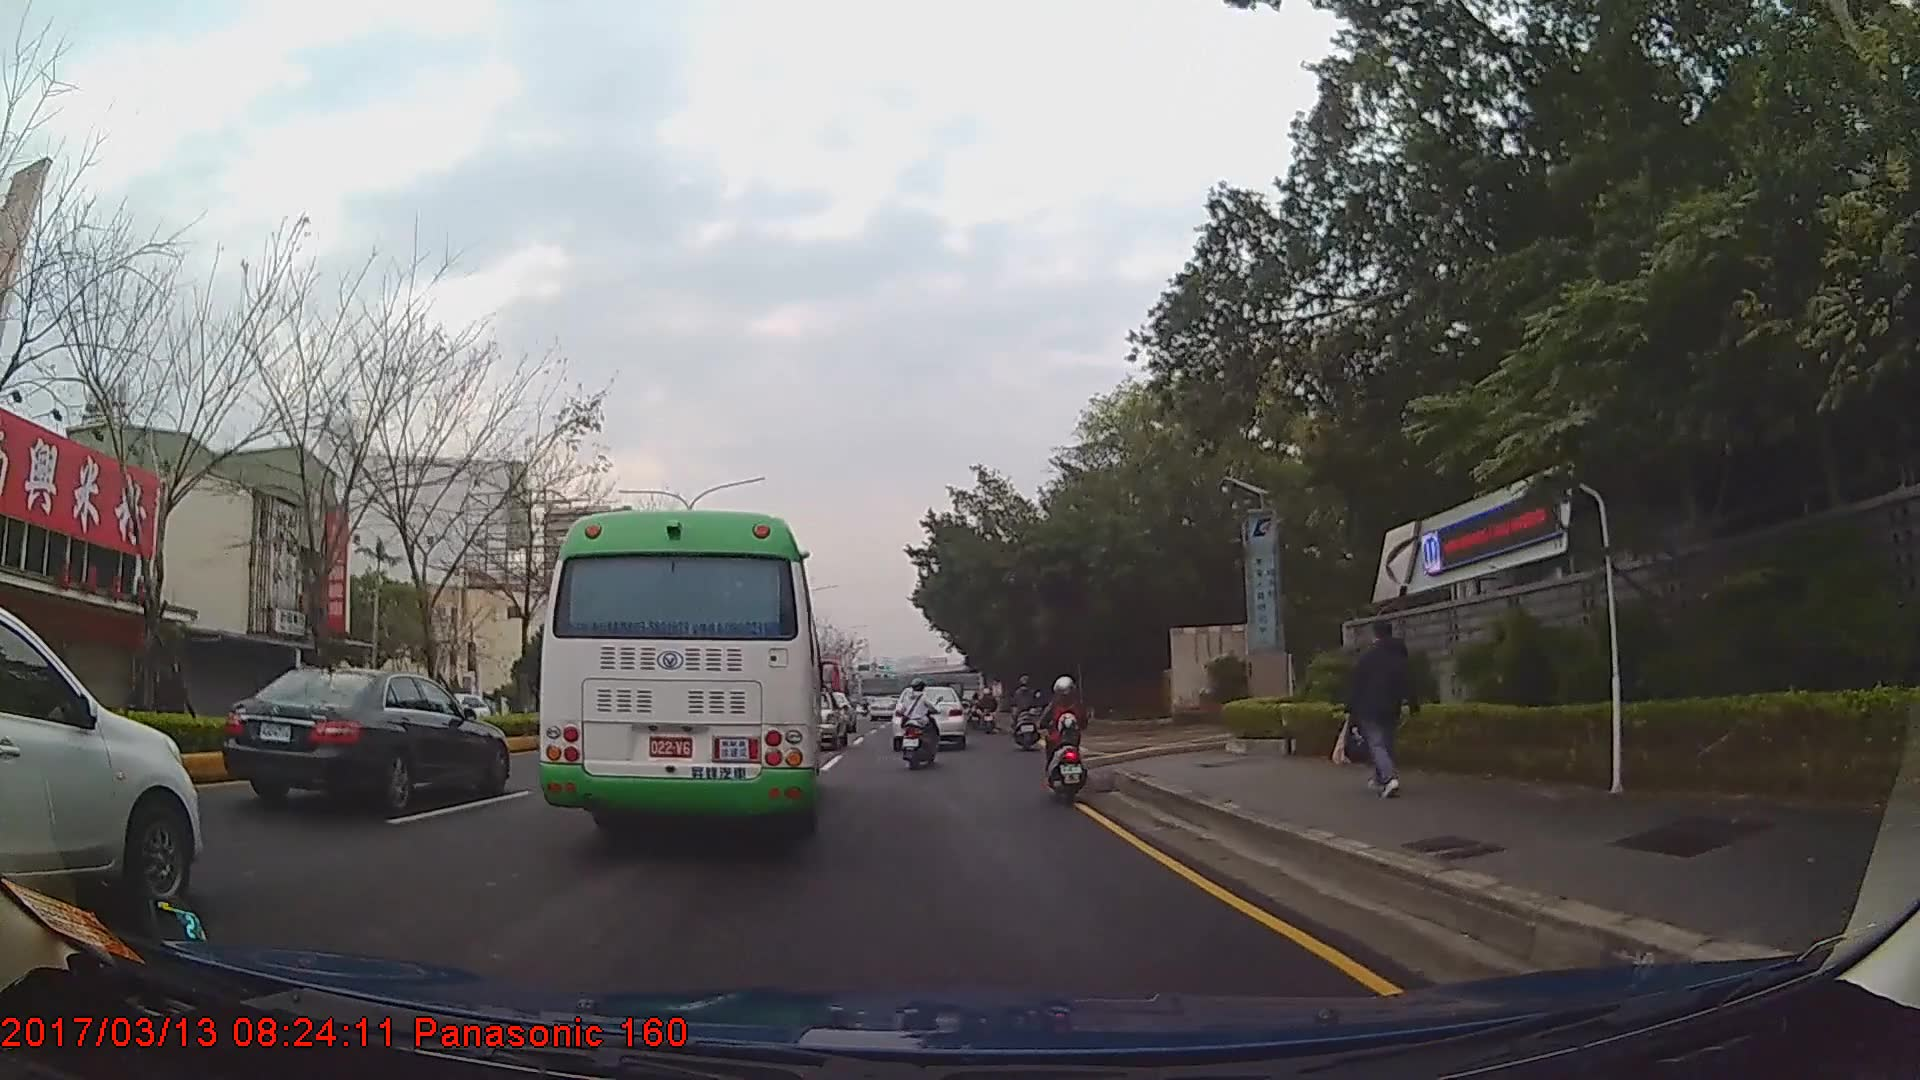pedestrian: (1333, 621, 1416, 796)
rider: (1042, 674, 1085, 800), (902, 679, 943, 769), (1008, 675, 1044, 751), (977, 689, 997, 724)
vehicle: (535, 506, 831, 847), (0, 596, 203, 911), (219, 665, 511, 812), (392, 682, 493, 735), (894, 682, 967, 750)
